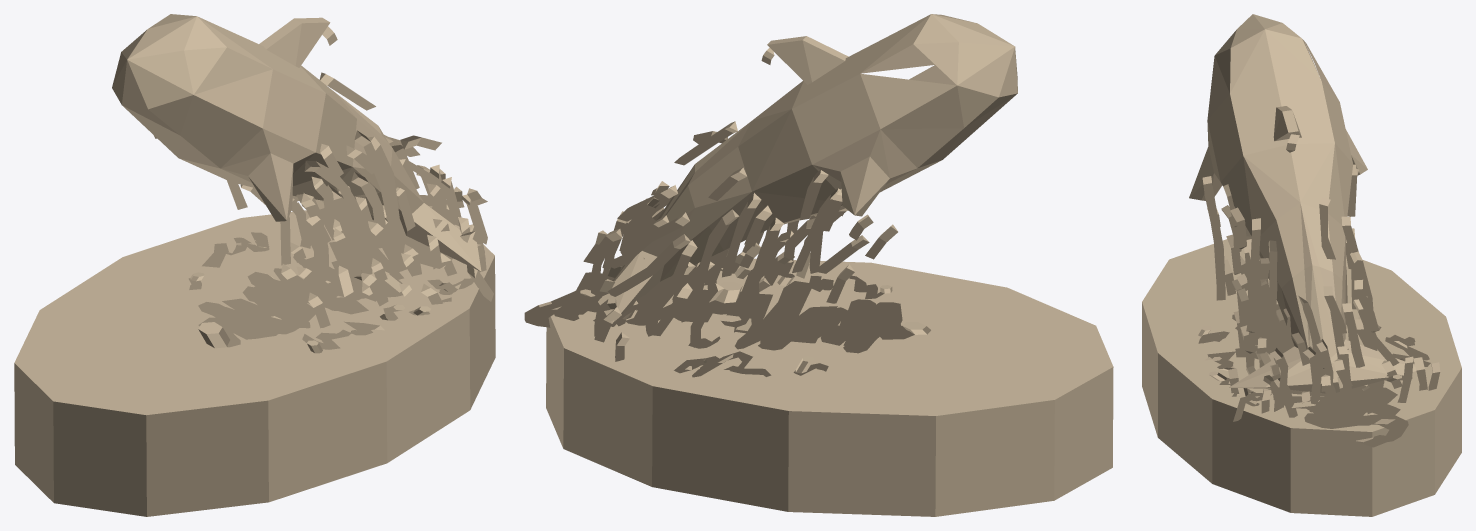
The model's file is kun.glb.
The picture shows the model from 3 angles, left to right: view 1: azimuth 30°, elevation 25°; view 2: azimuth 150°, elevation 25°; view 3: azimuth 270°, elevation 25°; orthographic projection. The views are drawn at different scales.
Visible parts, largest first — view 1: Node; view 2: Node; view 3: Node.
Boxes of the visible parts, x1,y1,x2,y2 form: Node: (14, 14, 495, 516); Node: (524, 14, 1113, 516); Node: (1142, 14, 1461, 516).
Bounding box in the file's own units: 0.4589 × 0.3818 × 0.3082.
